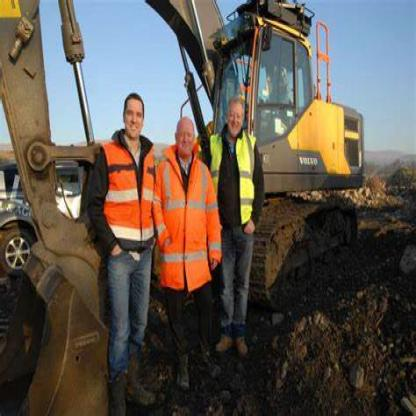person: (85, 78, 153, 411), (153, 104, 216, 400), (211, 74, 266, 355)
